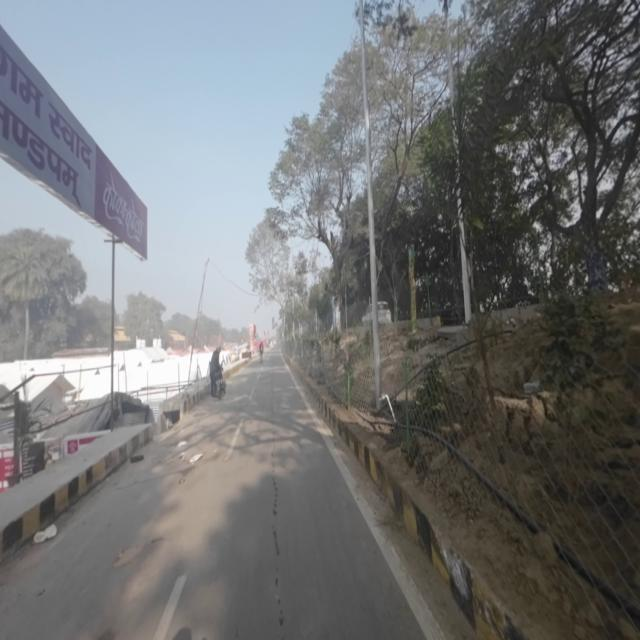Garbage: (32, 520, 58, 546), (190, 446, 207, 472)
